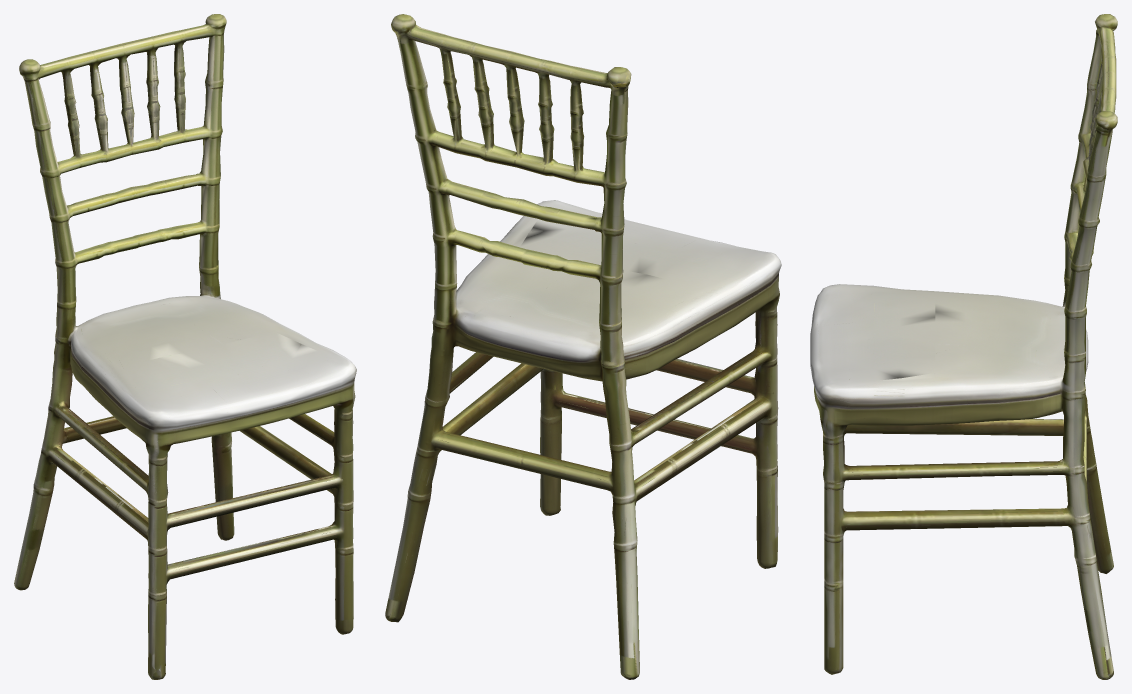
Rendered from CHIAVARI_Chair_Gold__0403042837_texture.glb.
3 renders of one model, left to right at view 1: azimuth 30°, elevation 25°; view 2: azimuth 150°, elevation 25°; view 3: azimuth 270°, elevation 25°, orthographic. The views are drawn at different scales.
Visible parts, largest first — view 1: Mesh_0; view 2: Mesh_0; view 3: Mesh_0.
Part boxes in pixels (x1=…): Mesh_0: x1=14, y1=14, x2=356, y2=679; Mesh_0: x1=385, y1=14, x2=781, y2=679; Mesh_0: x1=810, y1=14, x2=1117, y2=679.
Size of the model in its own units: 0.3529 by 0.8128 by 0.4031.
1 material, 1 textured.
